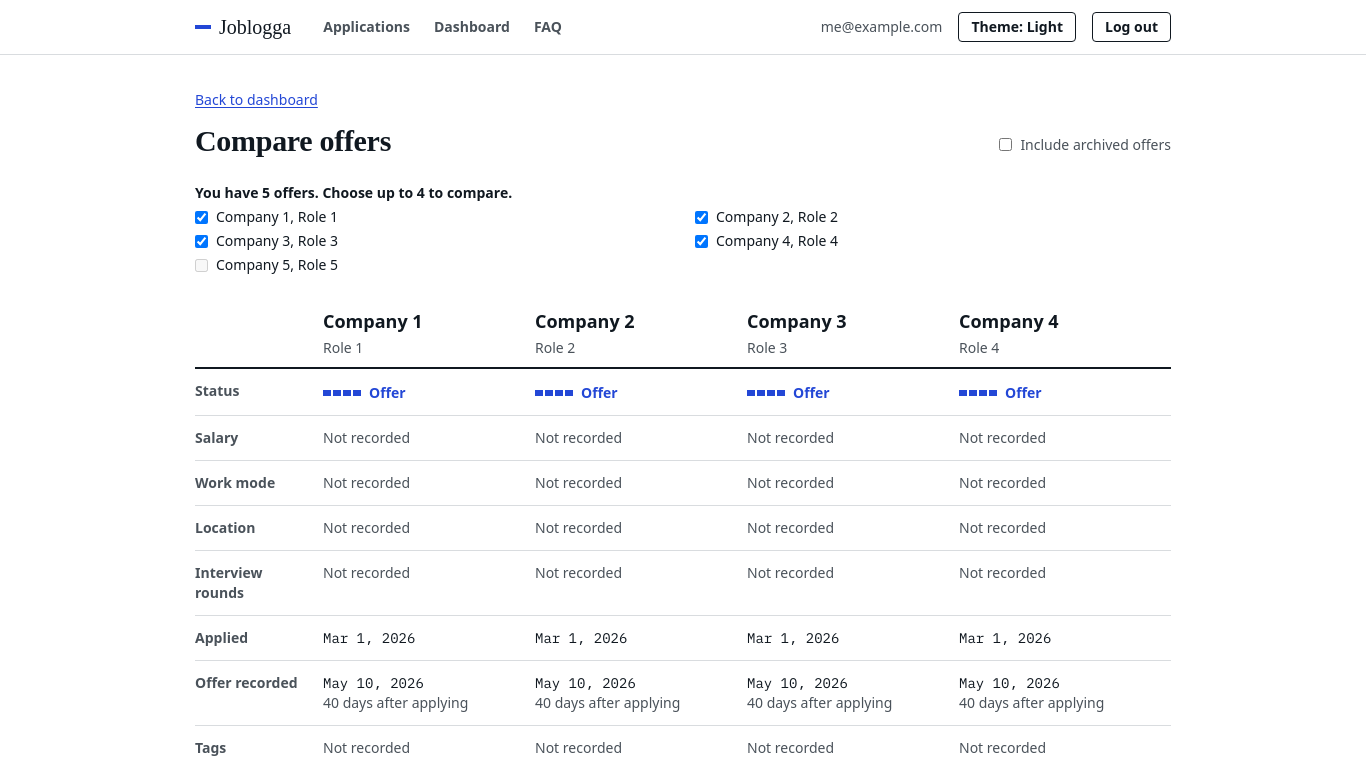
how many are compared › can be narrowed to one column, and to none with a prompt
This screenshot has width=1366, height=768.
Click the checkbox labelled "Company 2, Role 2" at (702, 217), box 695,210 -> 708,224
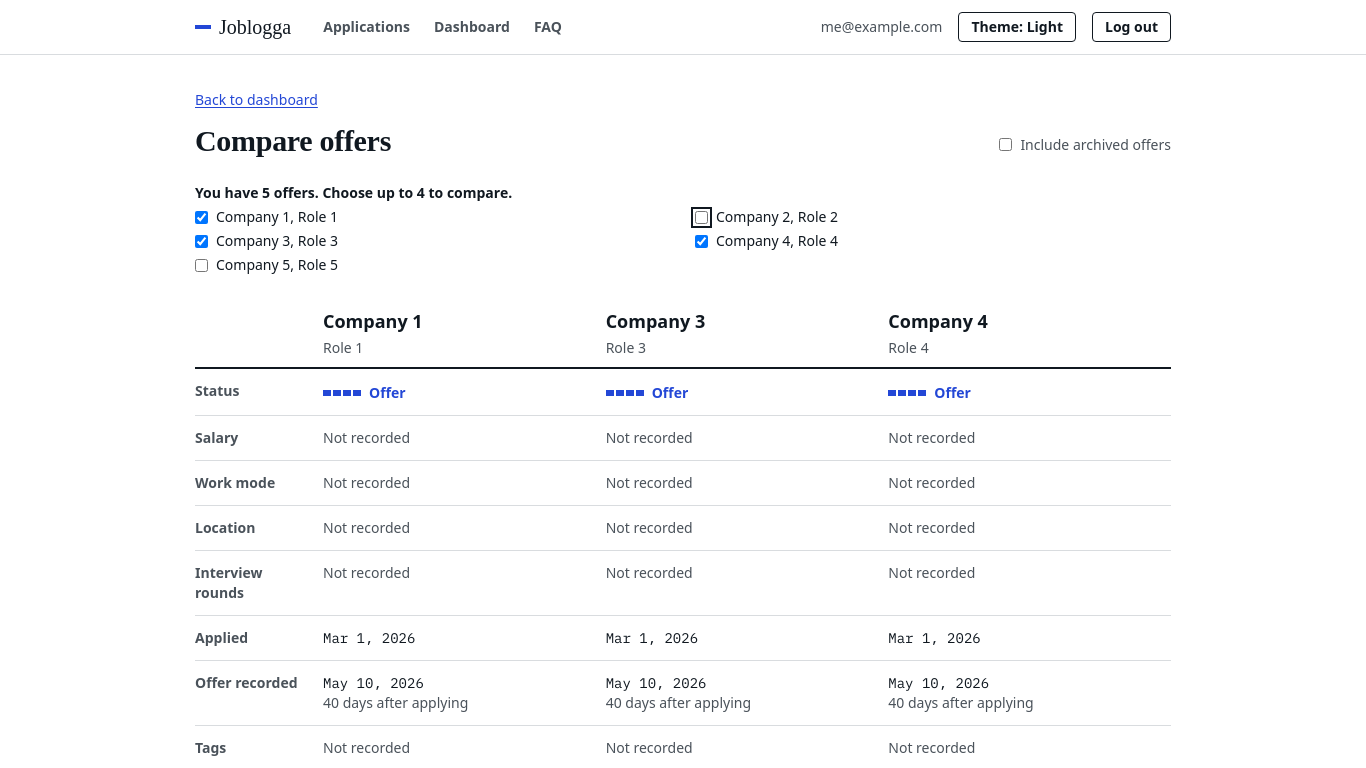
Click the checkbox labelled "Company 3, Role 3" at (202, 241), box 195,234 -> 208,248
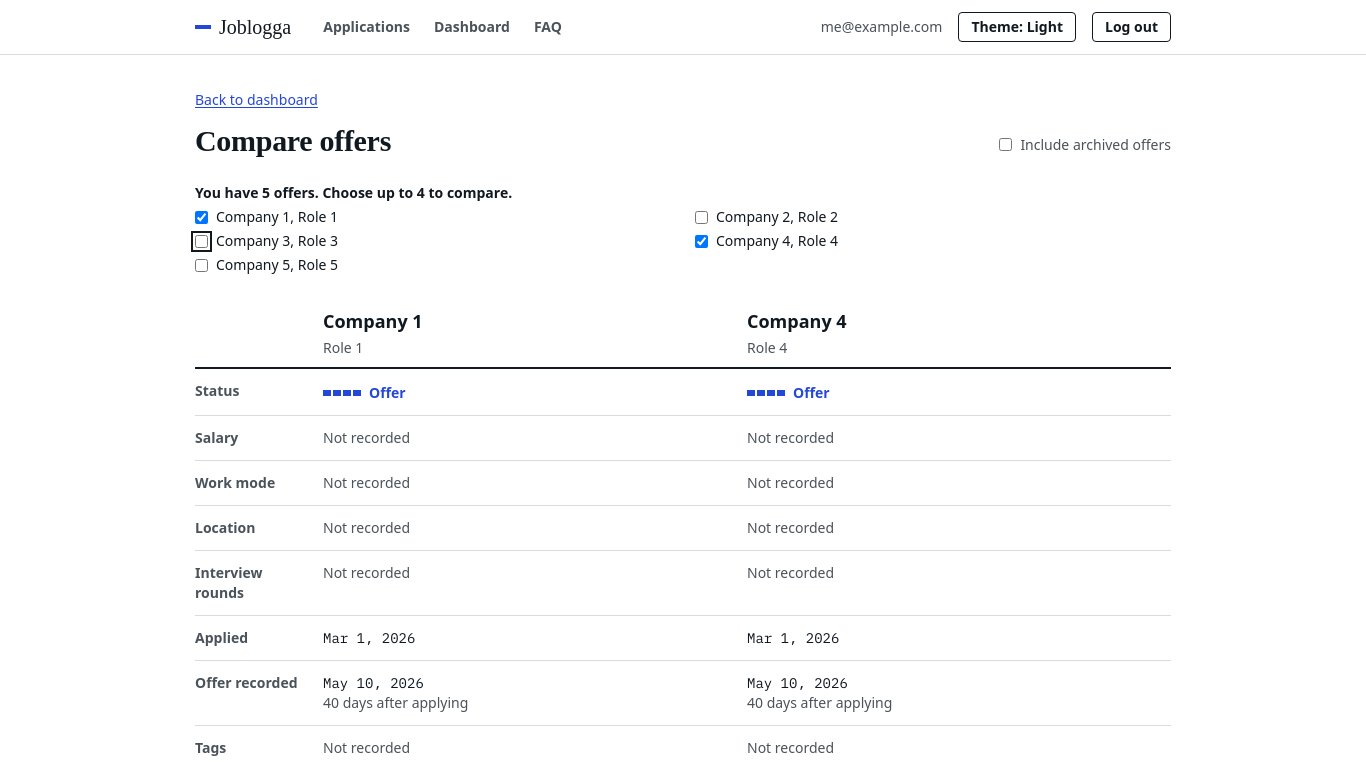
Click the checkbox labelled "Company 4, Role 4" at (702, 241), box 695,234 -> 708,248
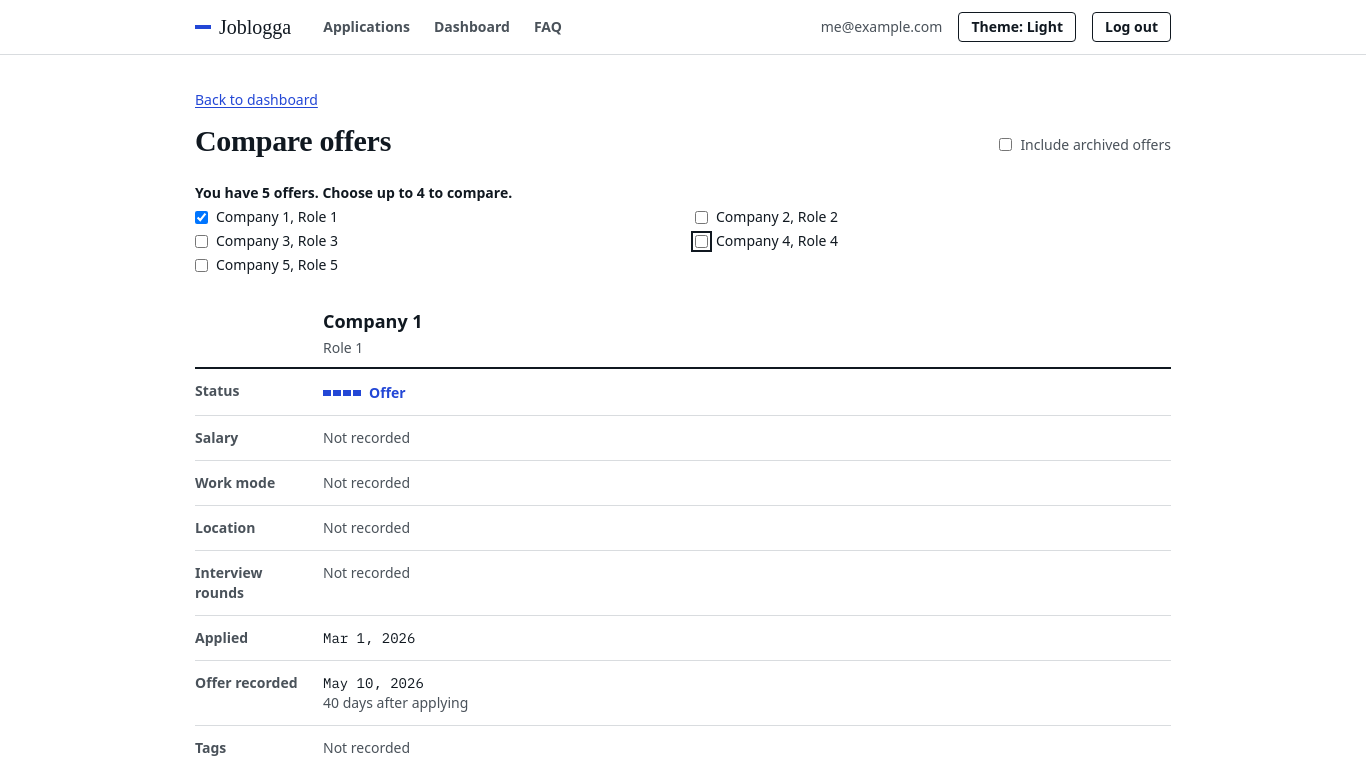
Click the checkbox labelled "Company 1, Role 1" at (202, 217), box 195,210 -> 208,224
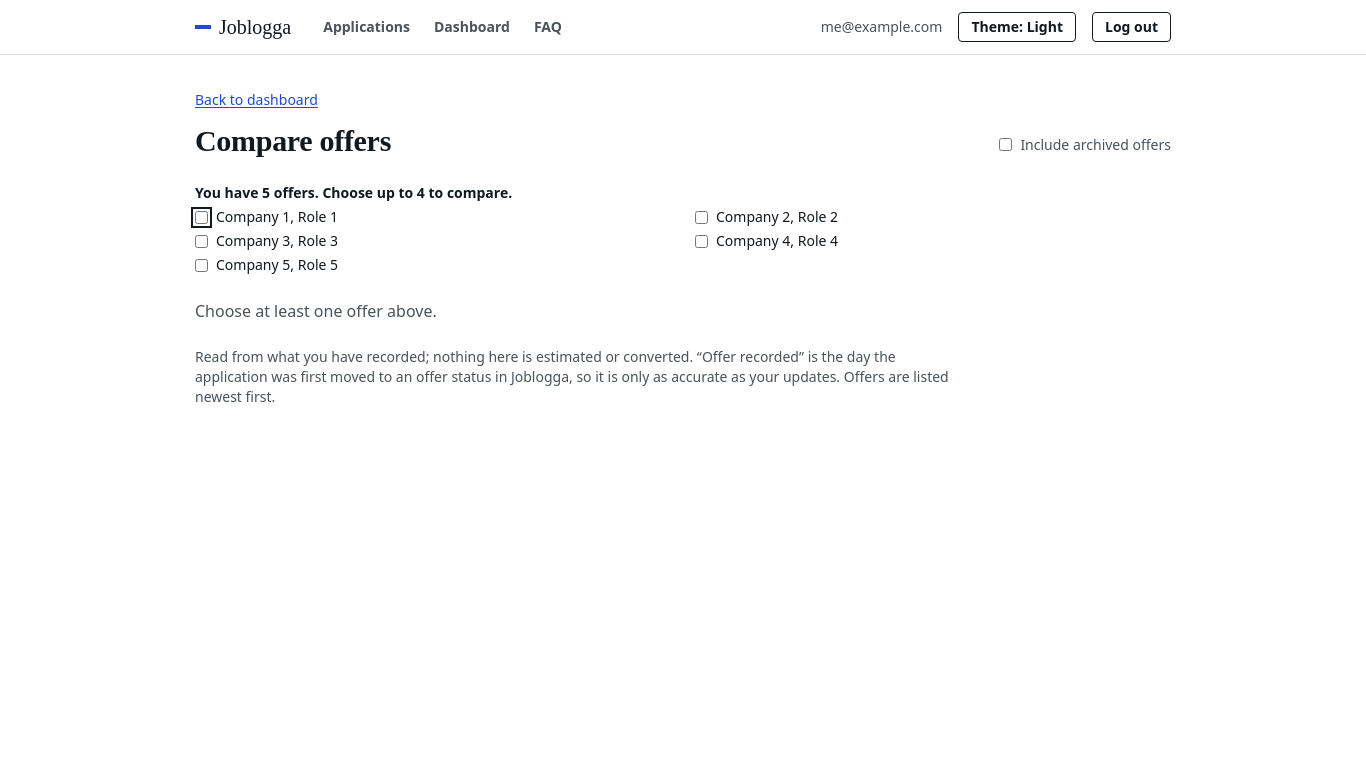
expect the text "Choose at least one offer above." is shown: met, box 195,300 -> 437,322
